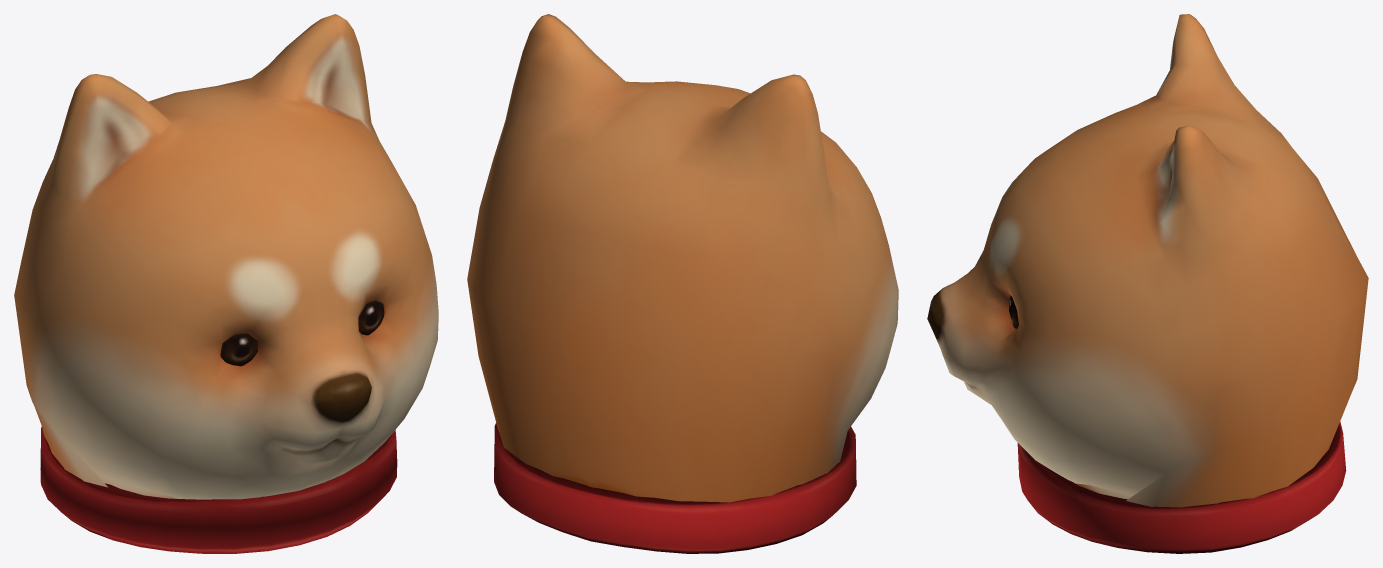
Rendered from ShibaHead.fbx.
3 renders of one model, left to right at view 1: azimuth 30°, elevation 25°; view 2: azimuth 150°, elevation 25°; view 3: azimuth 270°, elevation 25°, orthographic. The views are drawn at different scales.
Visible parts, largest first — view 1: ShibaHead; view 2: ShibaHead; view 3: ShibaHead.
Part boxes in pixels (left/top/right/bottom): ShibaHead: left=14, top=14, right=438, bottom=553; ShibaHead: left=467, top=14, right=898, bottom=553; ShibaHead: left=927, top=14, right=1368, bottom=553.
Bounding box in the file's own units: 0.7478 × 0.8491 × 0.8156.
Materials: 1 (1 with a texture image).
